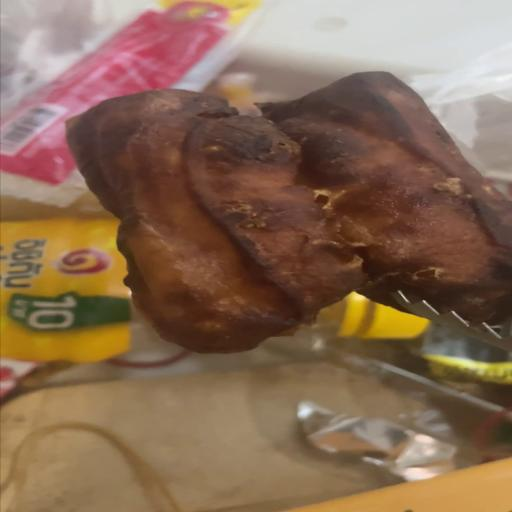street_burnt_defect: (60, 75, 510, 352)
